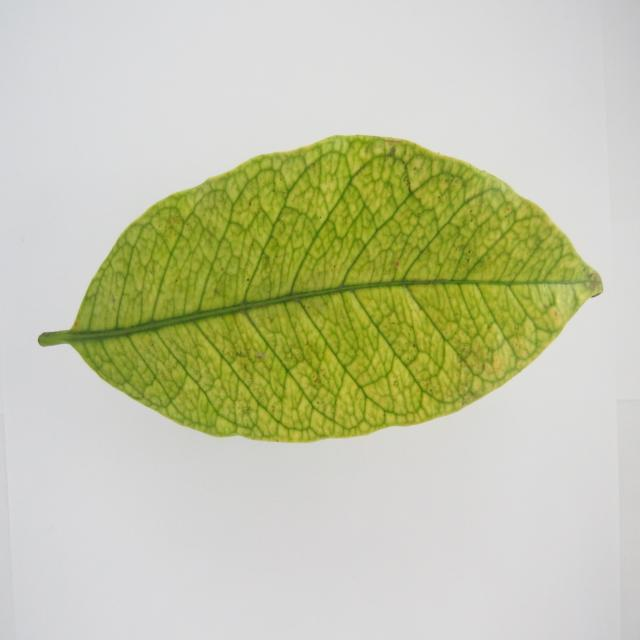DeficienciaNutricional-Hierro: (44, 136, 602, 438)
